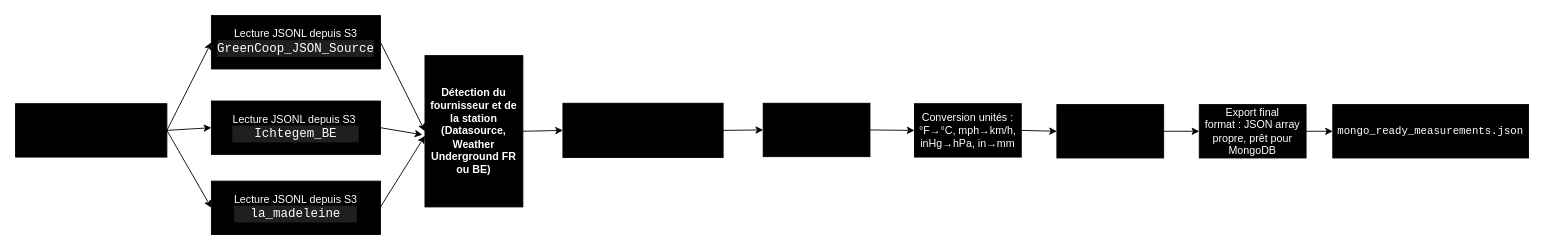
Some shapes in this 1544 by 250 pixel diagram are drawn without their labels. The centre of each missing label's shape, as x and y in pixels:
"DÉMARRAGE DU SCRIPT transform_to_mongo_json.py" belongs at point 91,130.
"Fusion des 3 fichiers dans un DataFrame final" belongs at point 1110,131.
"Génère une ligne par mesure horaire" belongs at point 642,130.
"Normalisation des données" belongs at point 816,129.
